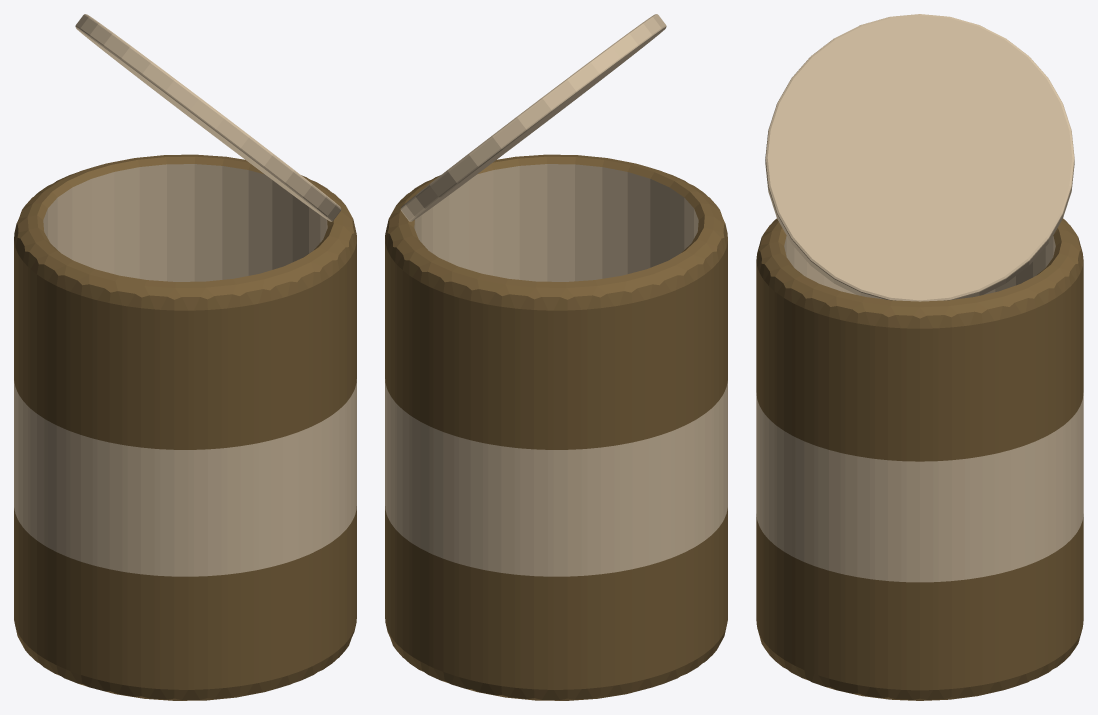
File: food_can_2_partyassets.fbx
3 views of the same model, side by side, from view 1: azimuth 30°, elevation 25°; view 2: azimuth 150°, elevation 25°; view 3: azimuth 270°, elevation 25° (orthographic). The views are drawn at different scales.
Parts seen in each view (by area): view 1: food_can_2_partyassets, Cube.035; view 2: food_can_2_partyassets, Cube.035; view 3: Cube.035, food_can_2_partyassets.
Part boxes in pixels (x1=…): food_can_2_partyassets: x1=14, y1=154, x2=356, y2=700; Cube.035: x1=14, y1=14, x2=356, y2=576; food_can_2_partyassets: x1=385, y1=154, x2=727, y2=700; Cube.035: x1=385, y1=14, x2=727, y2=576; Cube.035: x1=756, y1=14, x2=1083, y2=582; food_can_2_partyassets: x1=756, y1=218, x2=1083, y2=700.
Bounding box in the file's own units: 10.89 × 21.65 × 10.89.
